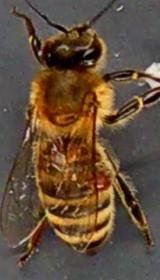varroa_mite: (88, 162, 115, 196)
